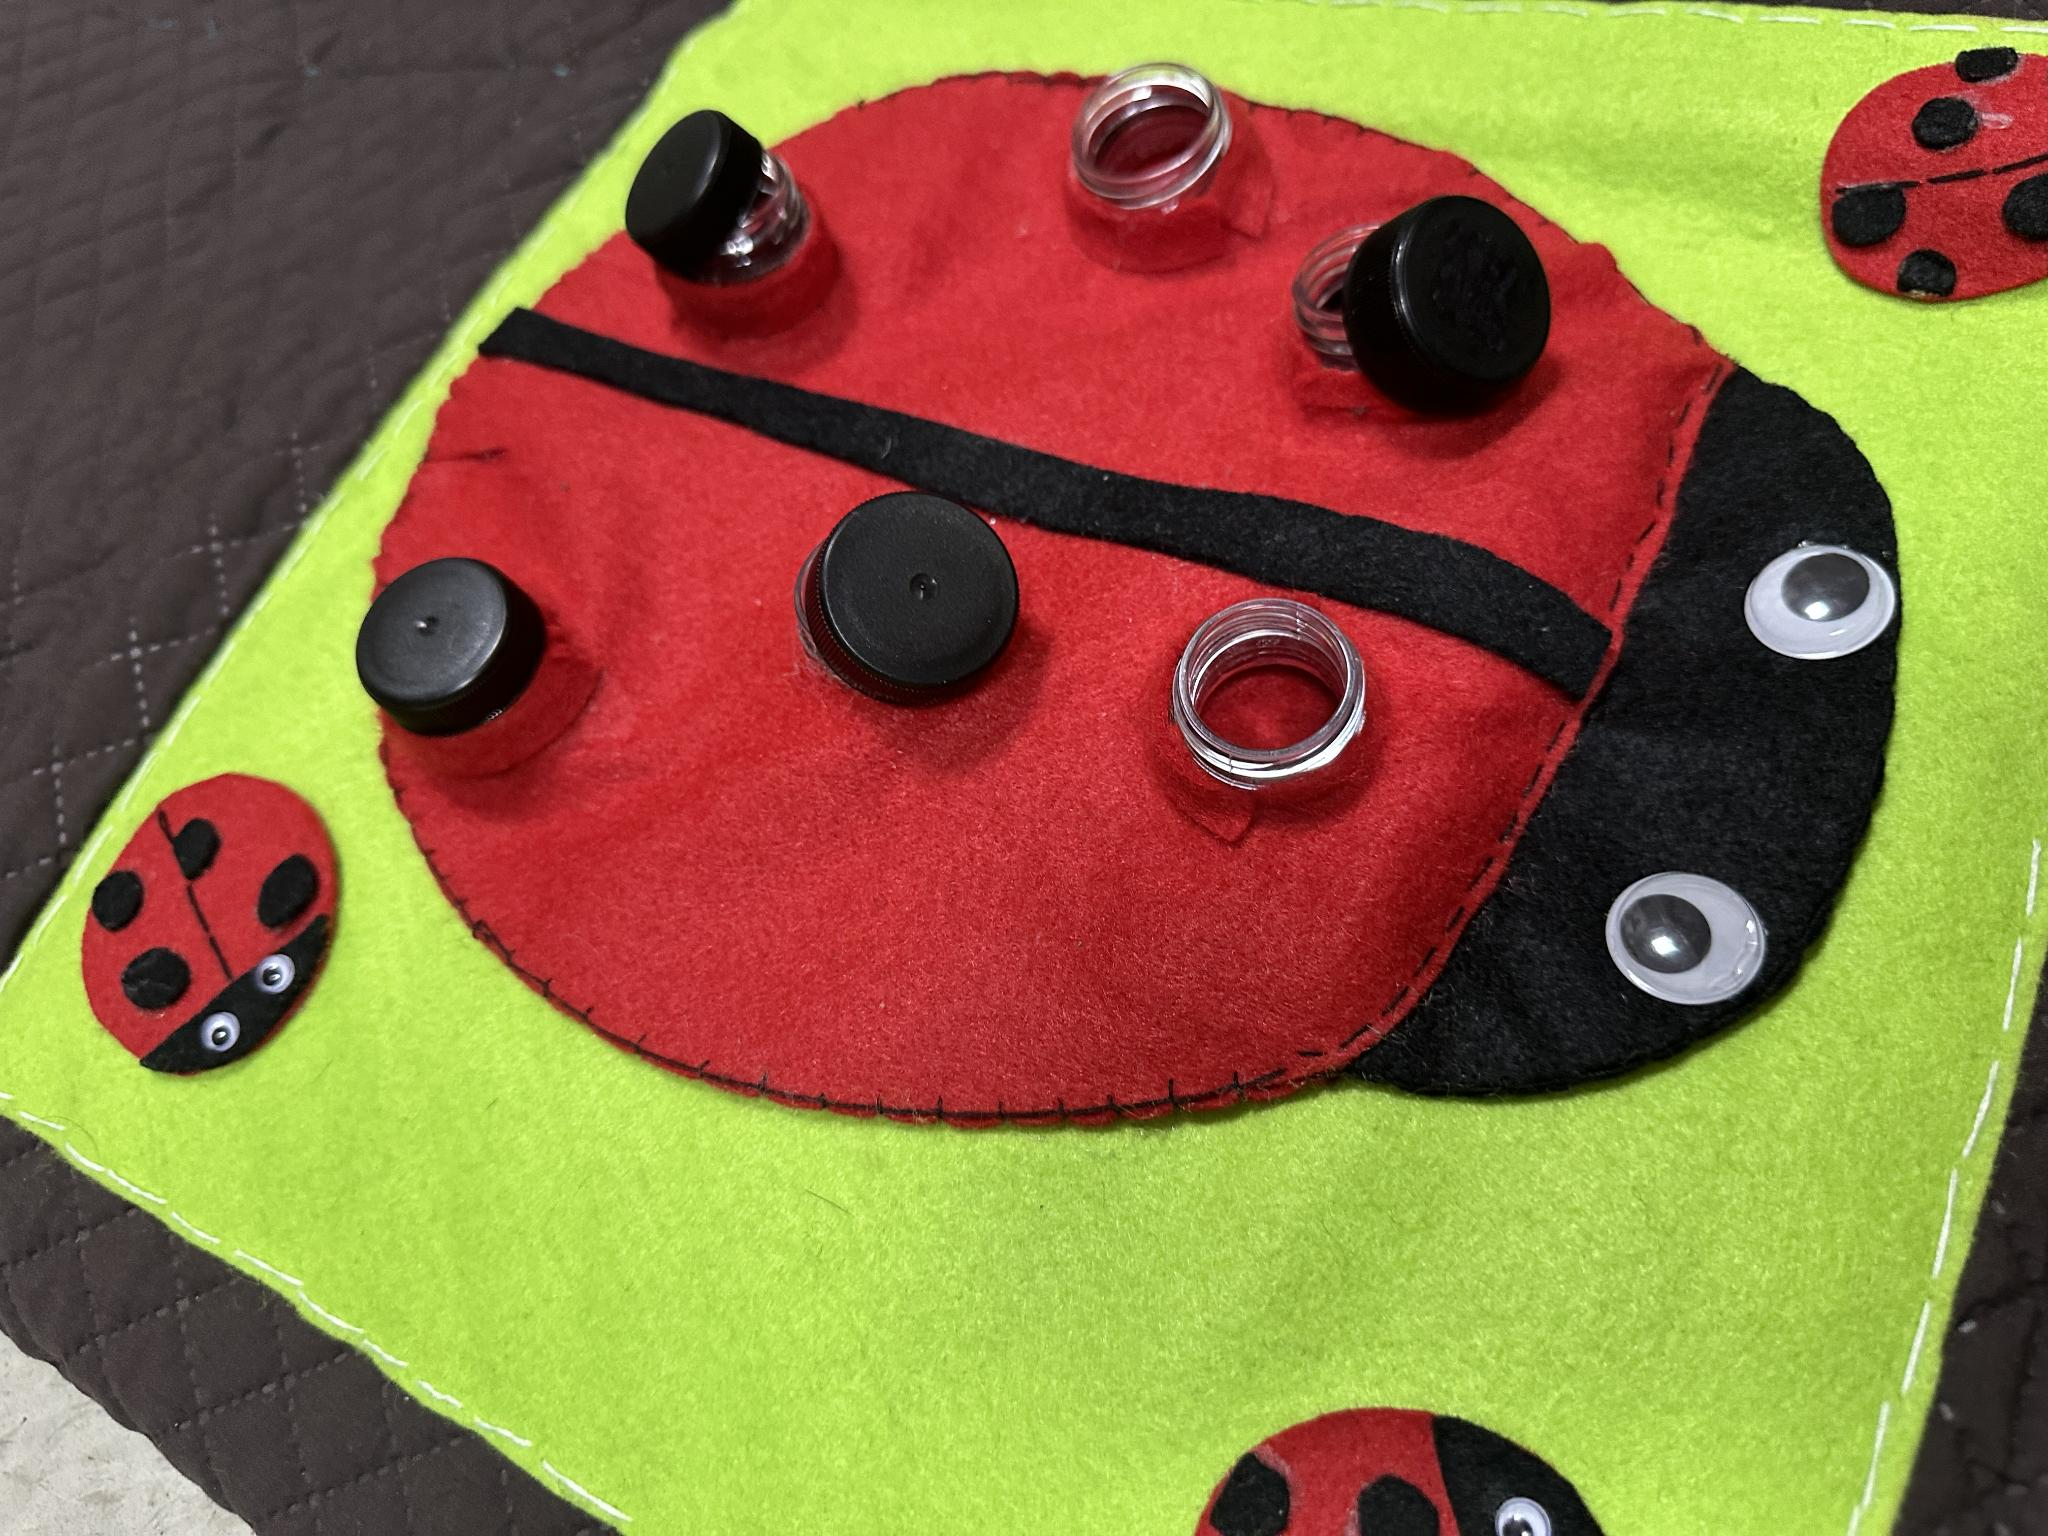cap_ng: (1264, 168, 1564, 437), (772, 479, 1037, 729), (627, 103, 855, 342)
cap_ok: (347, 550, 606, 792)
